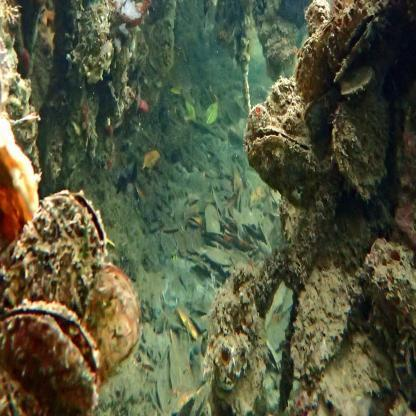3: (0, 190, 108, 318), (0, 303, 101, 416), (81, 264, 144, 380), (247, 125, 322, 209), (335, 4, 391, 85), (404, 338, 416, 377), (266, 340, 280, 370)
Oyster-Closed: (0, 138, 41, 251), (295, 14, 335, 101), (340, 63, 377, 101)
Oyster-Open: (332, 89, 390, 189), (295, 267, 351, 370), (215, 314, 267, 416), (210, 283, 258, 386)
